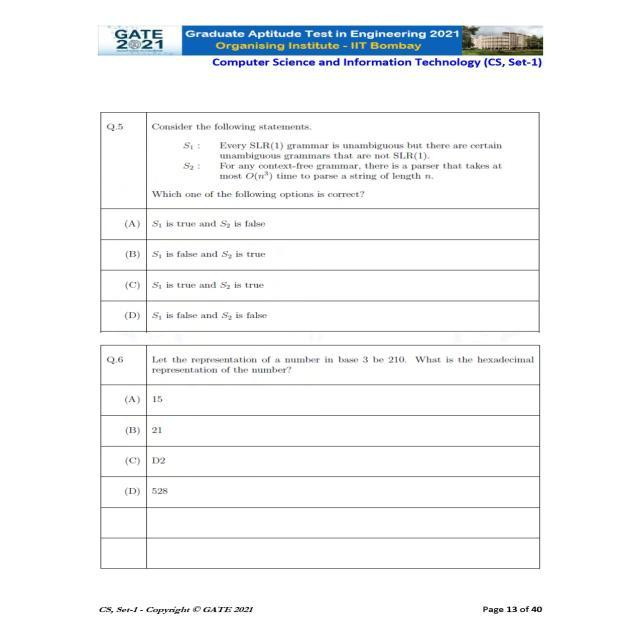Answer_Block: (100, 387, 544, 509), (103, 209, 541, 332)
Question_Answer_Block: (103, 112, 541, 335), (101, 345, 541, 509)
Question_Block: (100, 114, 542, 210), (99, 346, 541, 384)
Question_Paper_Area: (100, 114, 542, 570)
